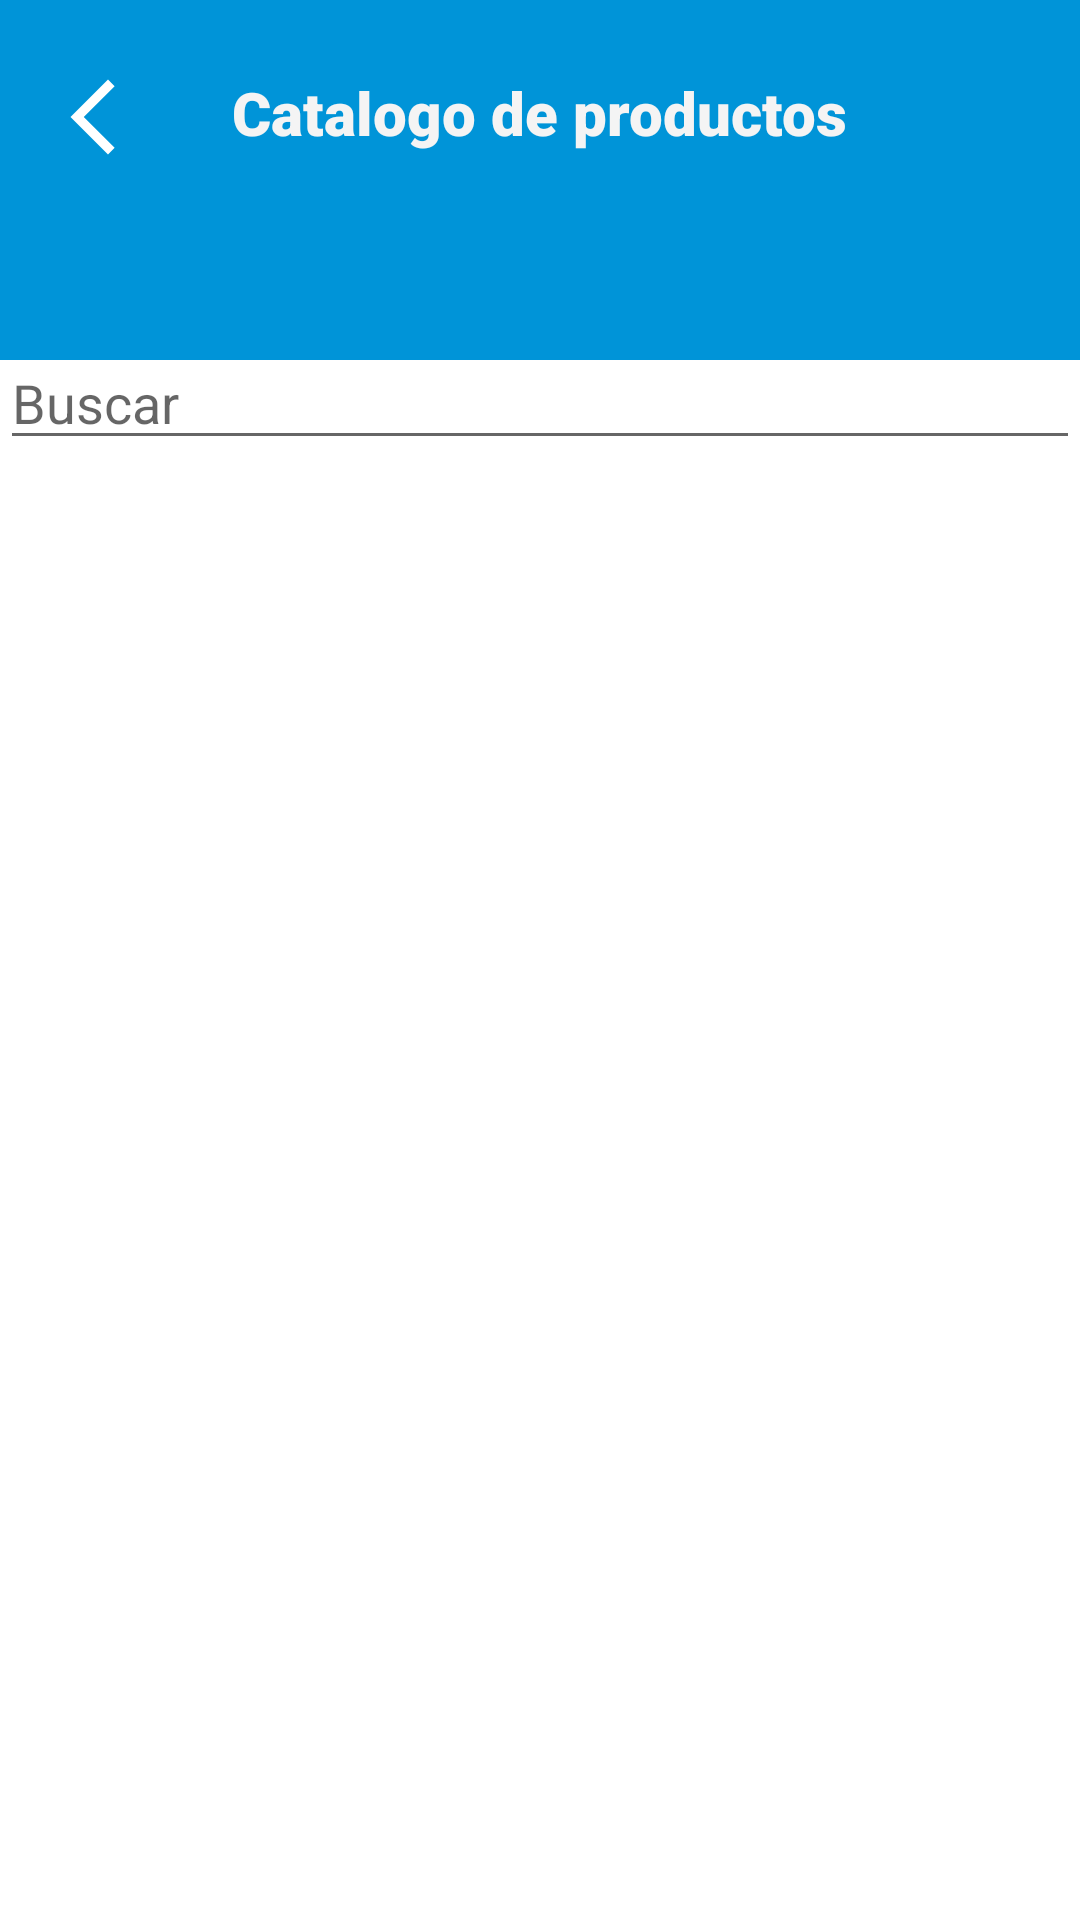

Where to tap for icons on this 1080×1920 app screen, as point (x, y):
arrow back: point (92, 117)
